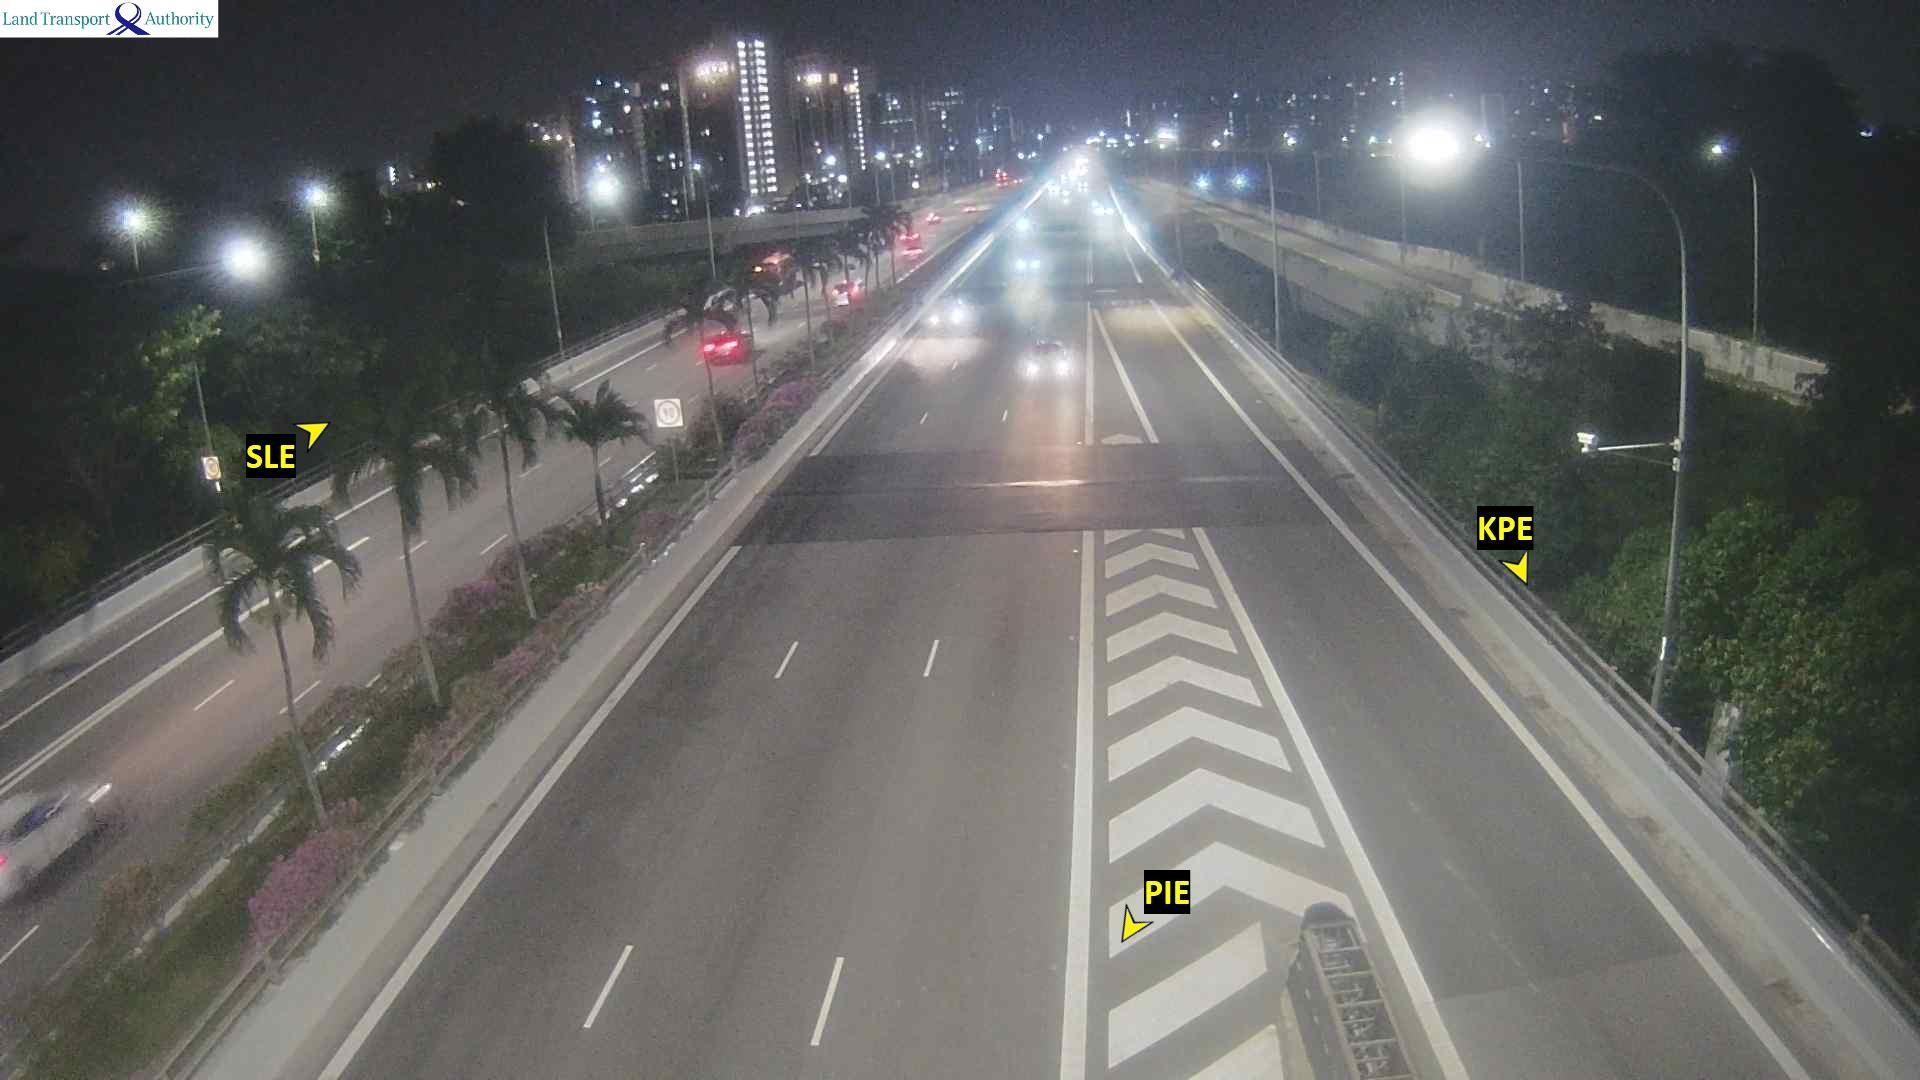cars: (0, 771, 122, 901), (1014, 334, 1073, 382), (696, 313, 749, 363), (923, 293, 979, 335), (1046, 154, 1090, 201), (829, 277, 864, 308), (1062, 153, 1090, 191), (1008, 245, 1041, 277), (899, 230, 922, 256), (1088, 196, 1111, 217), (993, 166, 1008, 186), (924, 210, 941, 224)
